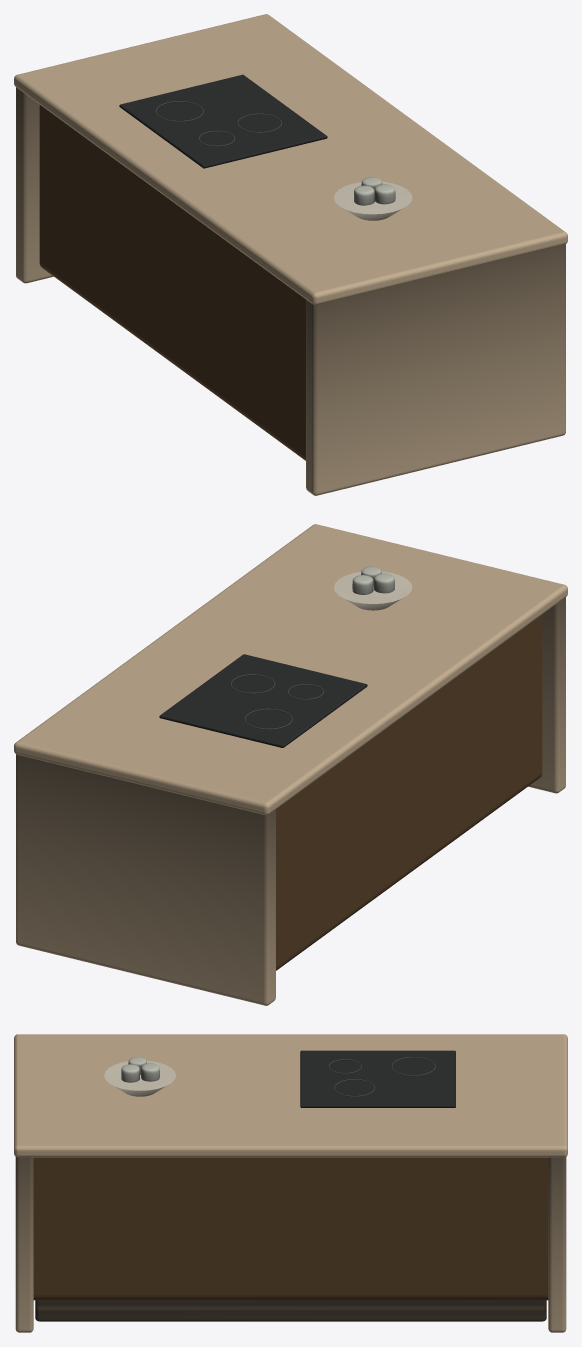
File: waterfall-island.glb
3 renders of one model, top to bottom at view 1: azimuth 30°, elevation 25°; view 2: azimuth 150°, elevation 25°; view 3: azimuth 270°, elevation 25°, orthographic. The views are drawn at different scales.
Visible parts, largest first — view 1: waterfall-island; view 2: waterfall-island; view 3: waterfall-island.
Boxes of the visible parts, x1,y1,x2,y2 form: waterfall-island: [14, 14, 567, 495]; waterfall-island: [14, 524, 567, 1005]; waterfall-island: [14, 1034, 567, 1332].
Size of the model in its own units: 1.15 by 1.02 by 2.35.
